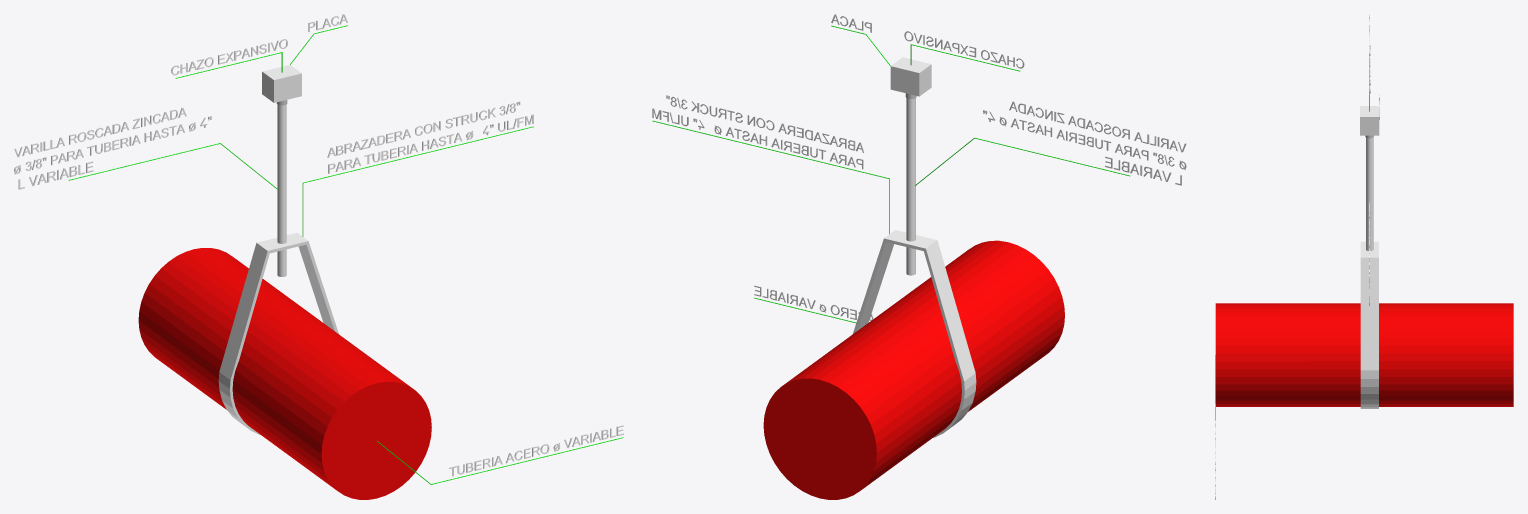
The model's file is colgante.glb.
3 renders of one model, left to right at view 1: azimuth 30°, elevation 25°; view 2: azimuth 150°, elevation 25°; view 3: azimuth 270°, elevation 25°, orthographic. The views are drawn at different scales.
Visible parts, largest first — view 1: Geom3D (×8); view 2: Geom3D (×8); view 3: Geom3D (×4).
Boxes of the visible parts, x1,y1,x2,y2 form: Geom3D (×8): (14, 39, 623, 499); Geom3D (×8): (652, 31, 1186, 499); Geom3D (×4): (1215, 106, 1513, 408).
Size of the model in its own units: 11.79 by 8.6 by 7.21.
